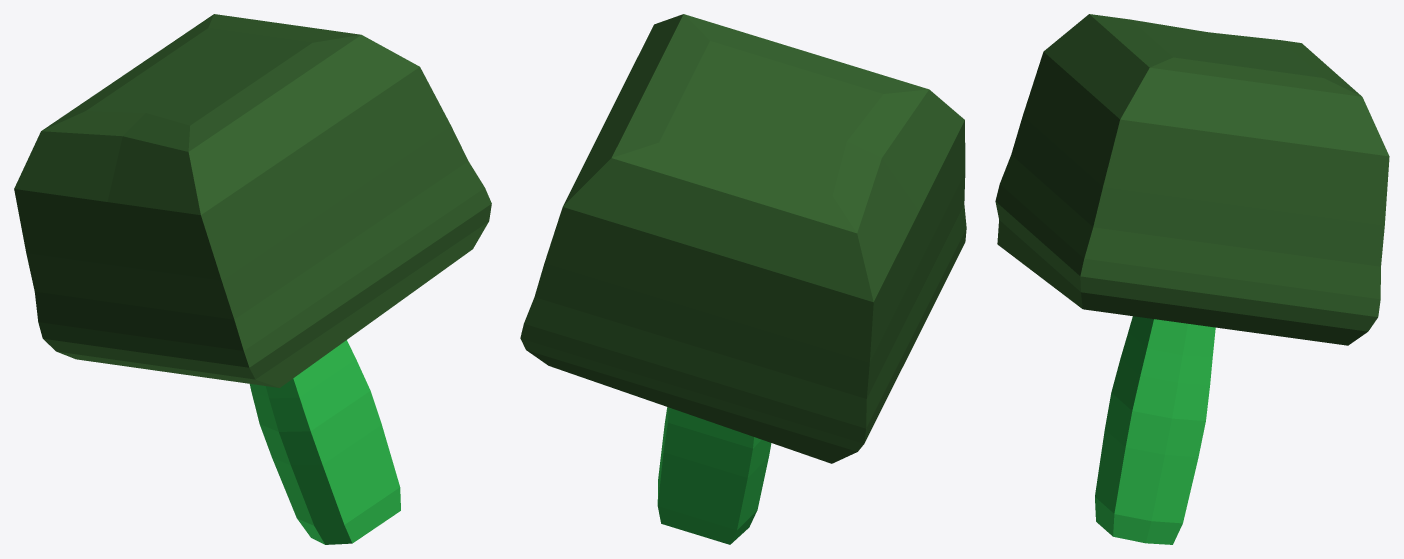
File: brocolli.fbx
The picture shows the model from 3 angles, left to right: view 1: azimuth 30°, elevation 25°; view 2: azimuth 150°, elevation 25°; view 3: azimuth 270°, elevation 25°; orthographic projection. The views are drawn at different scales.
Parts seen in each view (by area): view 1: Brocolli; view 2: Brocolli; view 3: Brocolli.
Boxes of the visible parts, x1,y1,x2,y2 form: Brocolli: (14, 14, 491, 544); Brocolli: (520, 14, 966, 544); Brocolli: (995, 14, 1389, 544).
Size of the model in its own units: 209 by 275 by 202.
